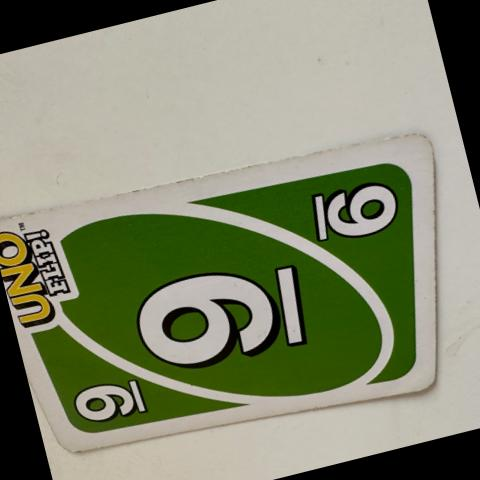lgreen-9: (54, 358, 161, 442)
